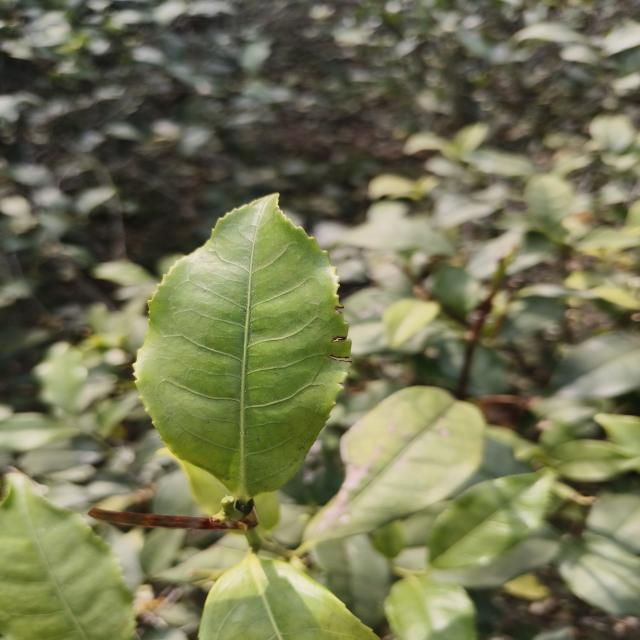Leaf: (135, 194, 350, 501), (302, 386, 485, 548), (0, 473, 136, 640), (199, 552, 376, 640), (428, 472, 553, 569), (311, 534, 391, 628), (558, 533, 640, 615), (384, 576, 477, 640), (550, 332, 640, 398), (341, 217, 454, 255), (34, 342, 87, 414), (552, 439, 640, 482), (524, 174, 575, 239), (0, 412, 78, 452), (383, 298, 440, 348), (429, 263, 481, 317), (140, 528, 187, 576), (95, 391, 140, 437), (468, 150, 535, 176)
